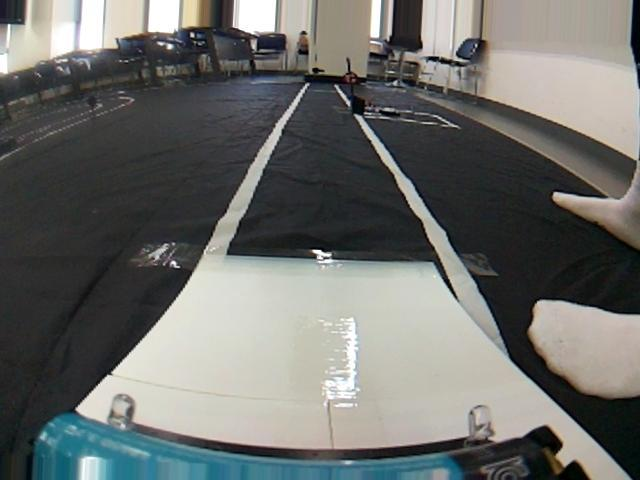hill_down: (4, 241, 636, 465)
